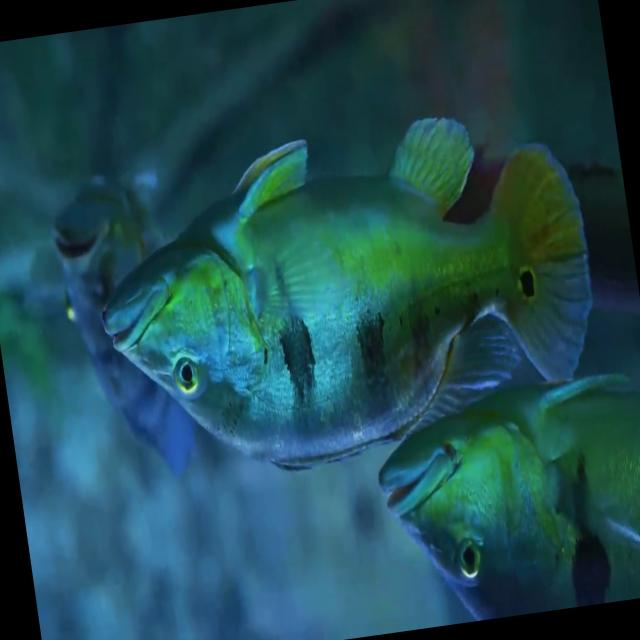fish: (80, 90, 619, 507), (1, 143, 209, 525), (364, 369, 640, 632)
